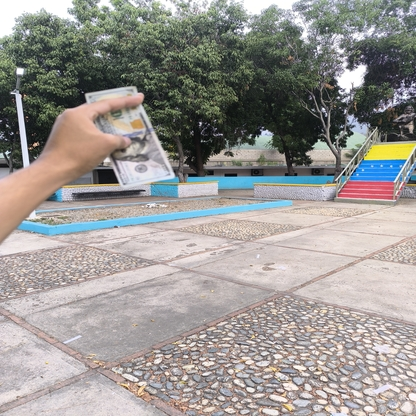one_hundred-front: (83, 81, 178, 188)
